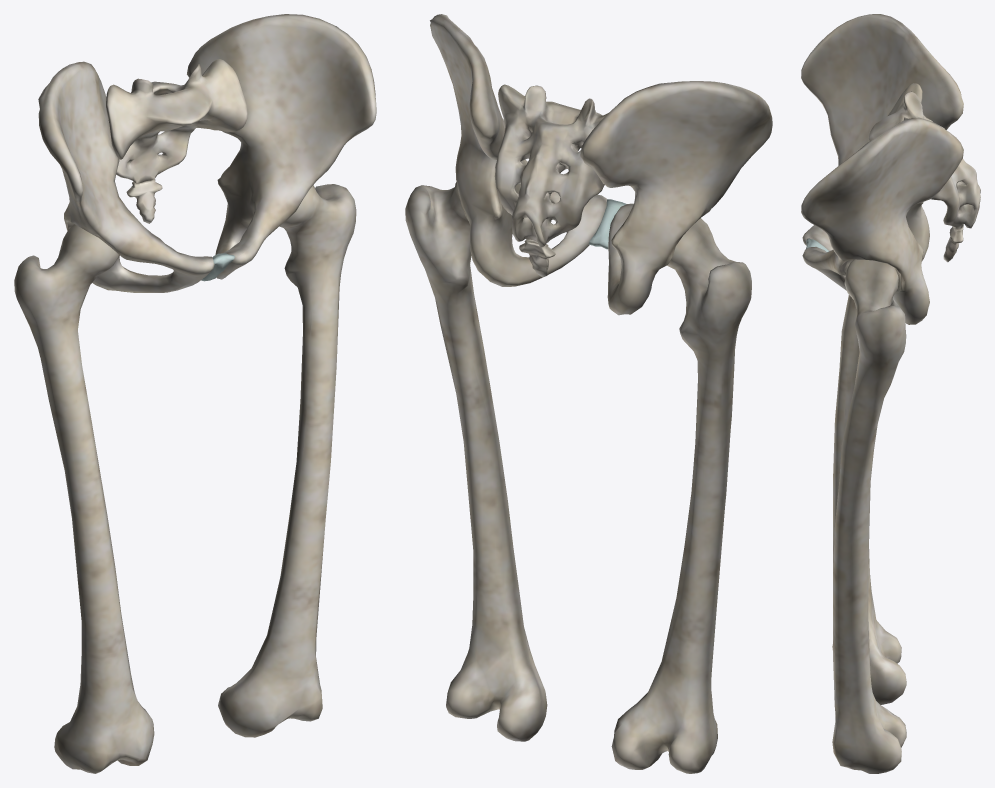
The model's file is pelvis-femur.glb.
The picture shows the model from 3 angles, left to right: view 1: azimuth 30°, elevation 25°; view 2: azimuth 150°, elevation 25°; view 3: azimuth 270°, elevation 25°; orthographic projection. The views are drawn at different scales.
Parts seen in each view (by area): view 1: Right_femur, Left_femur, Left_hip_bone__os_coxa_or_innominate_bone_, Right_hip_bone__os_coxa_or_innominate_bone_, Sacrum, Coccyx; view 2: Right_femur, Left_femur, Right_hip_bone__os_coxa_or_innominate_bone_, Left_hip_bone__os_coxa_or_innominate_bone_, Sacrum, Coccyx, Interpubic_disc; view 3: Left_femur, Left_hip_bone__os_coxa_or_innominate_bone_, Right_hip_bone__os_coxa_or_innominate_bone_, Right_femur, Sacrum, Coccyx.
Boxes of the visible parts, x1,y1,x2,y2 form: Right_femur: (14,224,154,773); Left_femur: (218,184,356,737); Left_hip_bone__os_coxa_or_innominate_bone_: (187,14,376,279); Right_hip_bone__os_coxa_or_innominate_bone_: (38,61,214,292); Sacrum: (106,59,247,183); Coccyx: (126,179,162,223); Right_femur: (611,218,751,773); Left_femur: (405,182,547,741); Right_hip_bone__os_coxa_or_innominate_bone_: (580,81,772,315); Left_hip_bone__os_coxa_or_innominate_bone_: (430,14,606,286); Sacrum: (494,84,608,247); Coccyx: (519,240,555,277); Interpubic_disc: (588,199,626,249); Left_femur: (832,259,906,773); Left_hip_bone__os_coxa_or_innominate_bone_: (801,118,963,324); Right_hip_bone__os_coxa_or_innominate_bone_: (801,14,963,261); Right_femur: (832,295,906,704); Sacrum: (869,83,980,228); Coccyx: (943,226,963,262).
Bounding box in the file's own units: 0.2973 × 0.5855 × 0.1454.
7 materials, 7 textured.
